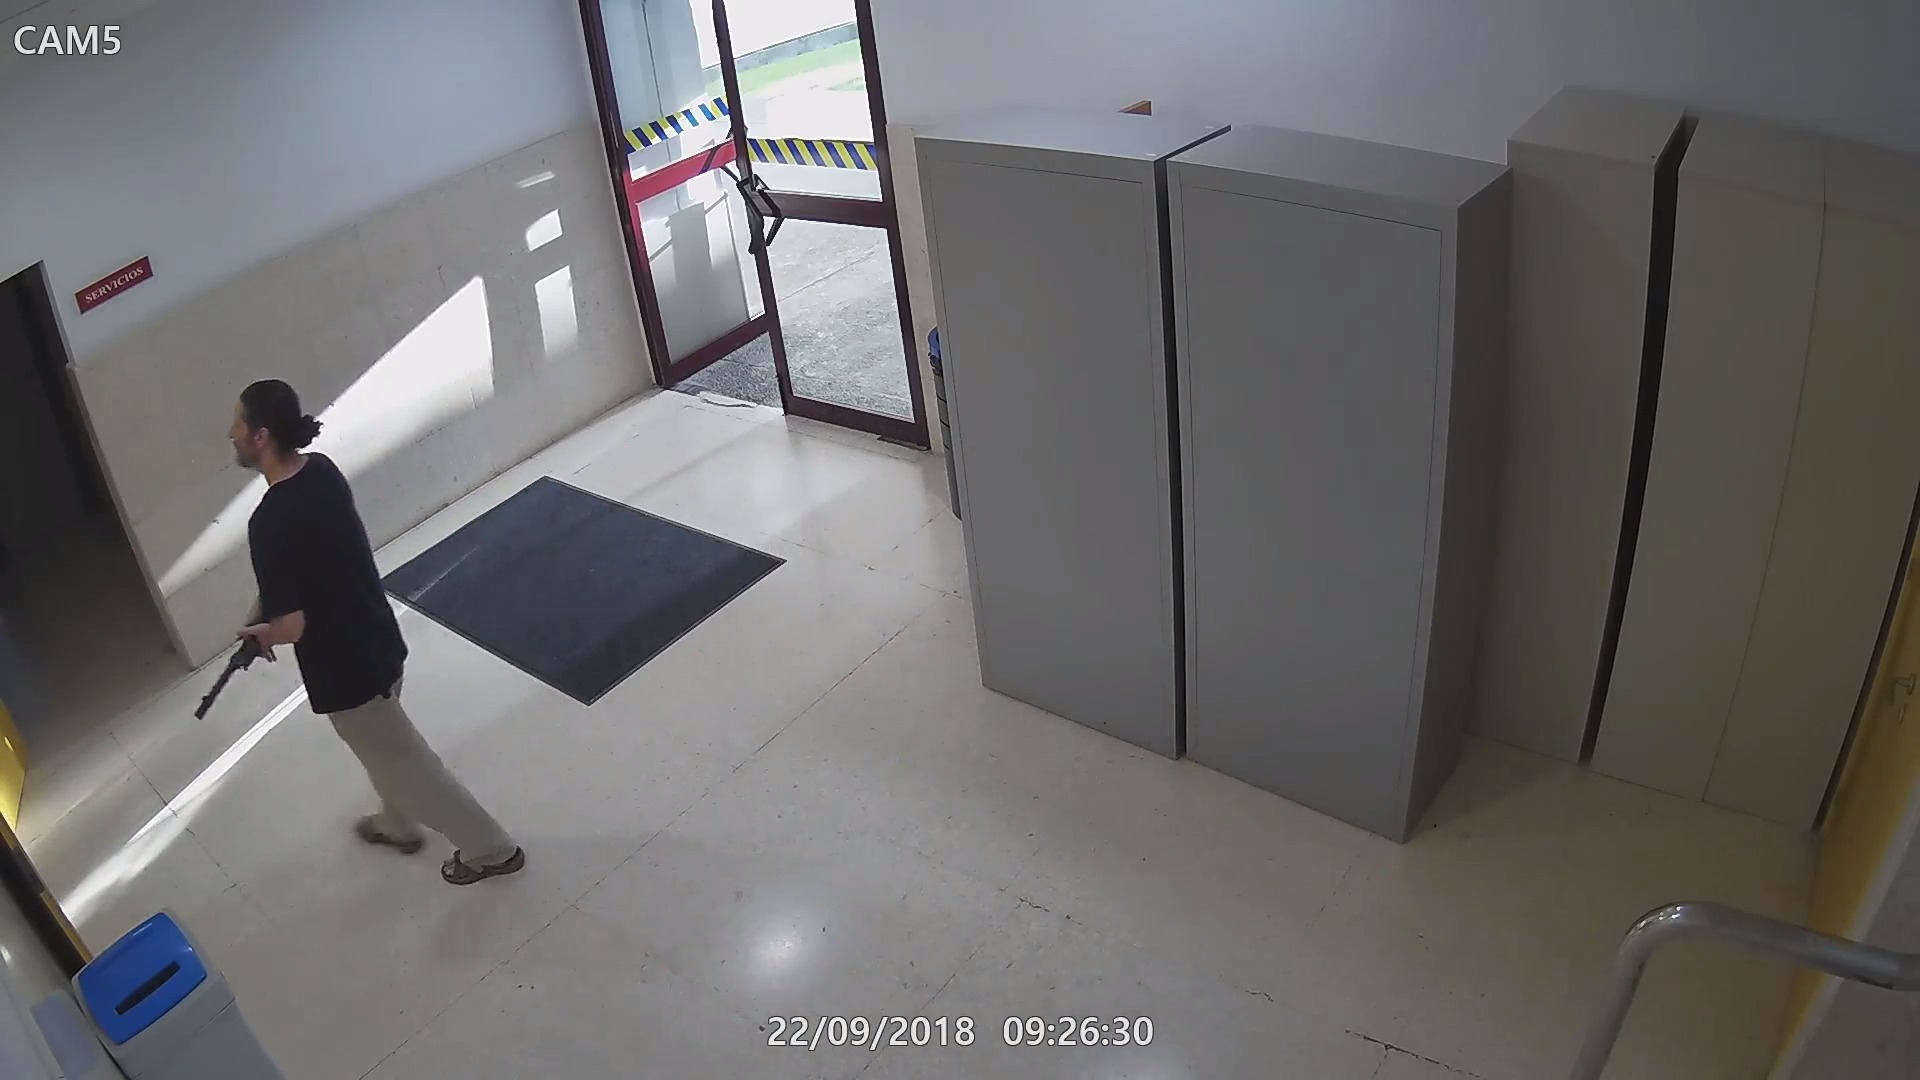Short_rifle: (182, 609, 265, 720)
